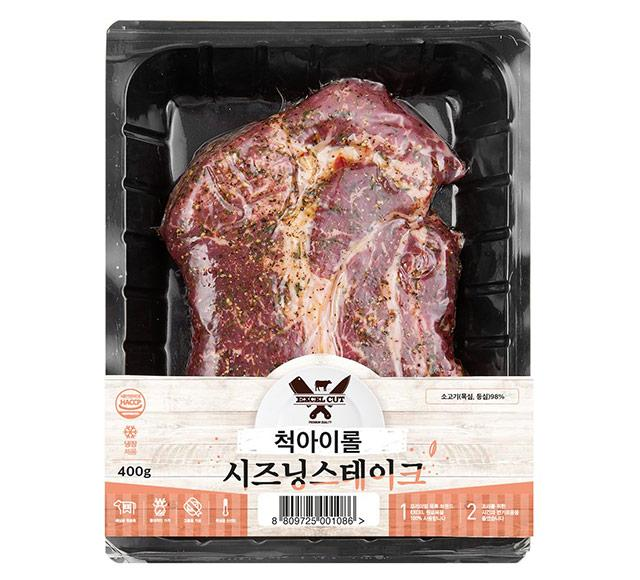beef: (142, 66, 480, 340)
